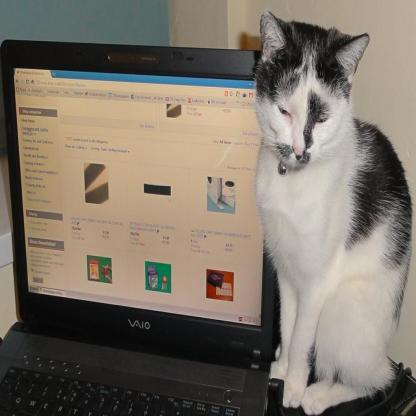board: (1, 29, 282, 416)
